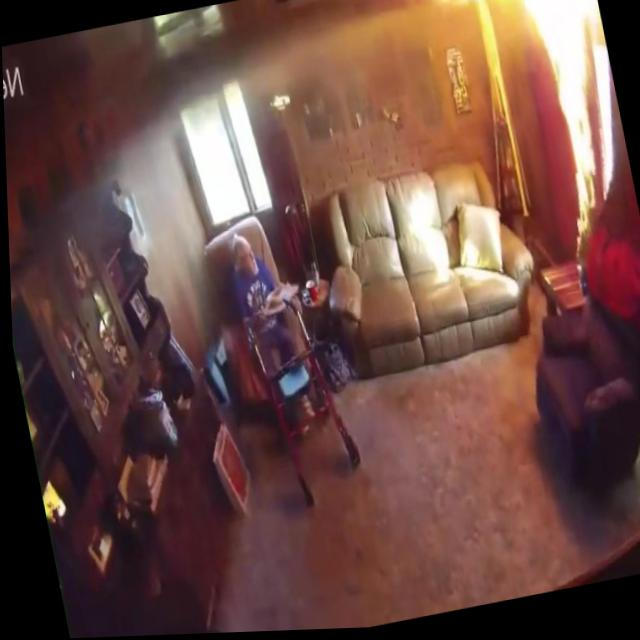fire: (512, 0, 637, 247), (426, 0, 594, 22)
